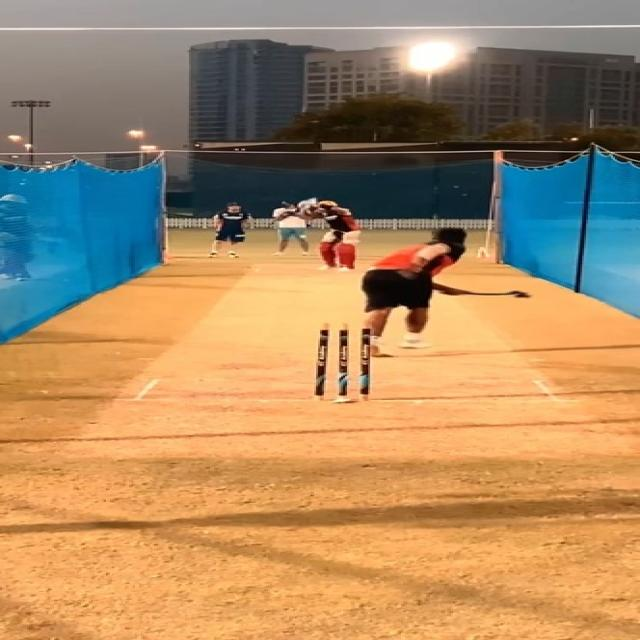batsman: (300, 197, 363, 271)
